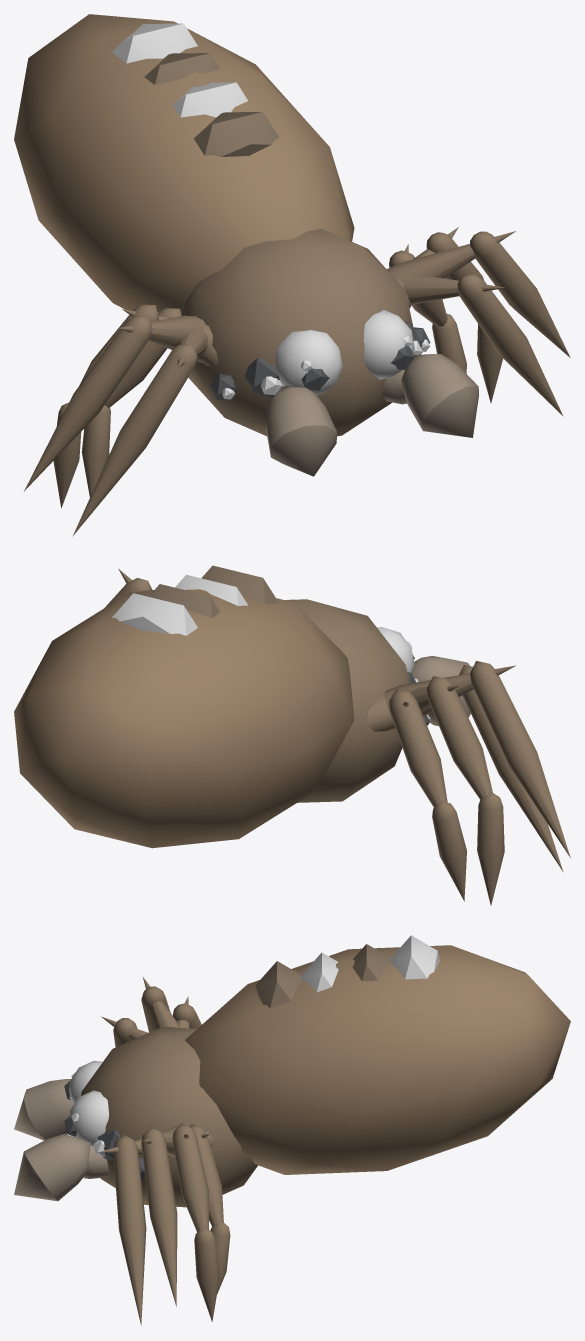
The model's file is heteropoda-amphora.glb.
3 views of the same model, one above another, from view 1: azimuth 30°, elevation 25°; view 2: azimuth 150°, elevation 25°; view 3: azimuth 270°, elevation 25° (orthographic). The views are drawn at different scales.
Parts seen in each view (by area): view 1: abdomen, cephalothorax, leg2-r0, leg3-r0, leg2-l0, leg3-l0, palp-l1, palp-r1, leg0-r0, eye0-r, eye0-l, leg1-r0 (+3 smaller); view 2: abdomen, cephalothorax, leg1-r0, leg2-r0, leg0-r0, leg3-r0, palp-r1, eye0-r, leg2-l0; view 3: abdomen, cephalothorax, leg1-l0, leg3-l0, leg2-l0, palp-l1, palp-r1, leg0-l0, eye0-l, leg2-r0, eye0-r, leg3-r0 (+3 smaller).
Part boxes in pixels (<box>): abdomen: <box>14,14,354,312</box>; cephalothorax: <box>180,229,413,436</box>; leg2-r0: <box>24,315,203,491</box>; leg3-r0: <box>72,316,207,536</box>; leg2-l0: <box>387,231,570,357</box>; leg3-l0: <box>398,273,563,416</box>; palp-l1: <box>401,354,478,437</box>; palp-r1: <box>266,386,336,476</box>; leg0-r0: <box>81,308,218,496</box>; eye0-r: <box>274,330,342,395</box>; eye0-l: <box>363,310,414,379</box>; leg1-r0: <box>53,304,212,507</box>; abdomen: <box>14,565,354,848</box>; cephalothorax: <box>285,599,409,802</box>; leg1-r0: <box>410,676,504,905</box>; leg2-r0: <box>384,661,570,857</box>; leg0-r0: <box>389,689,466,901</box>; leg3-r0: <box>366,665,563,872</box>; palp-r1: <box>411,656,470,725</box>; eye0-r: <box>377,627,414,673</box>; leg2-l0: <box>105,568,152,607</box>; abdomen: <box>185,935,570,1174</box>; cephalothorax: <box>81,1026,257,1207</box>; leg1-l0: <box>168,1123,219,1321</box>; leg3-l0: <box>101,1131,214,1325</box>; leg2-l0: <box>141,1125,178,1306</box>; palp-l1: <box>14,1134,90,1201</box>; palp-r1: <box>14,1079,73,1140</box>; leg0-l0: <box>189,1124,230,1294</box>; eye0-l: <box>64,1090,108,1146</box>; leg2-r0: <box>141,977,178,1032</box>; eye0-r: <box>64,1061,102,1104</box>; leg3-r0: <box>101,1016,147,1046</box>.
Bounding box in the file's own units: 0.3932 × 0.2364 × 0.4096.
